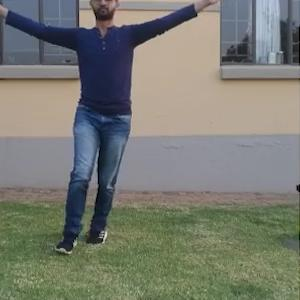takeoff: (0, 0, 205, 215)
